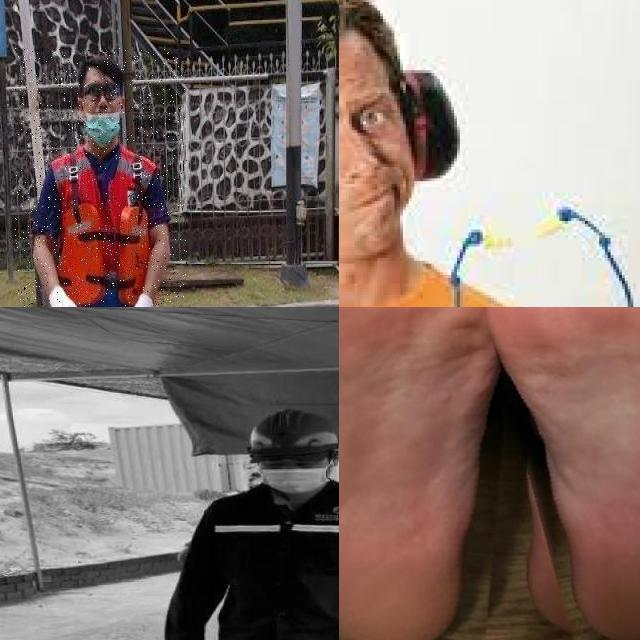Barefoots: (483, 307, 640, 640), (339, 307, 491, 640)
Ear-protection: (339, 38, 464, 241)
No_Ear-Protection: (326, 444, 339, 477)
face_mask: (257, 464, 329, 496)
hand_noglove: (159, 627, 207, 640)
person: (14, 48, 187, 307), (159, 407, 339, 640)
vest: (53, 145, 158, 307)
